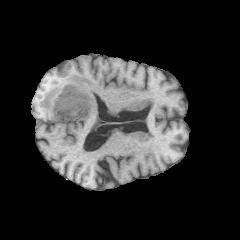glioma: (39, 76, 96, 122)
